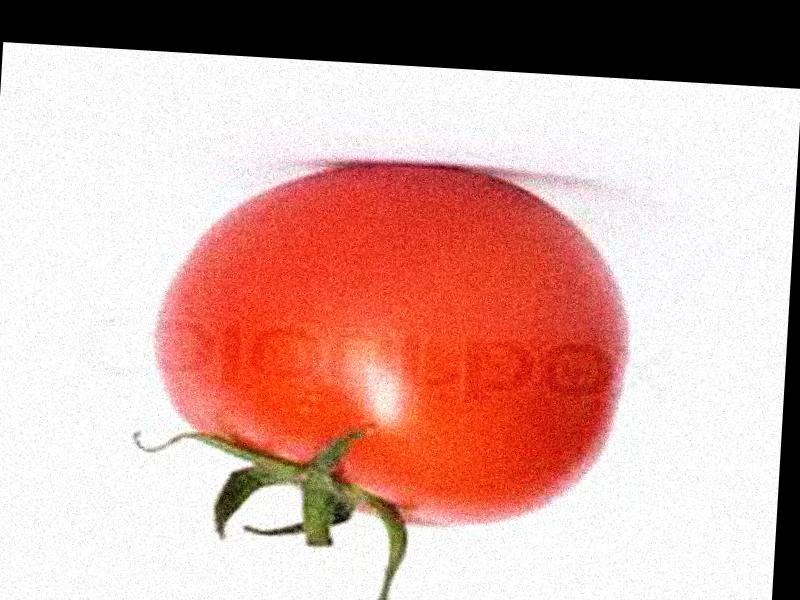Tomato: (150, 155, 636, 538)
